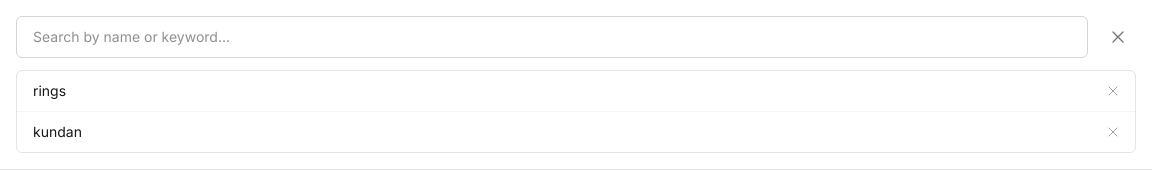
Test case: SearchOverlay › removes a history term when the remove button is clicked
The image size is (1152, 170).
(page scrolled)
Click the 1st button with test id "search-history-remove" at x=1113, y=91, box [1099,77,1127,105]
(page scrolled)
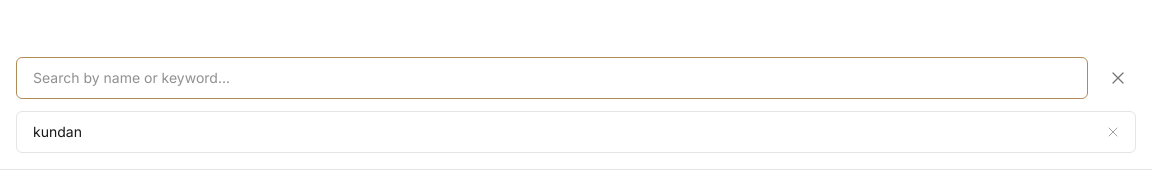
Expected: the button with test id "search-history-item" reads "kundan", [17,112,1095,152]
Expected: the text "rings" is gone
